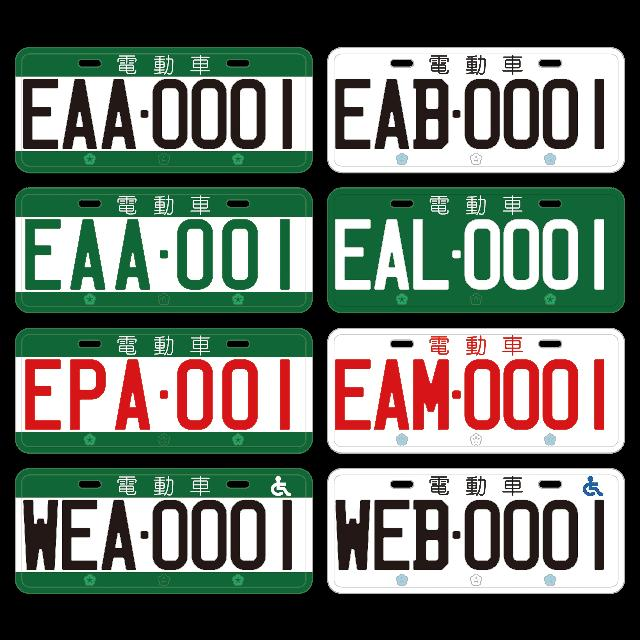plate: (14, 326, 314, 454), (326, 45, 624, 173), (16, 186, 314, 314), (325, 185, 625, 312), (14, 468, 314, 594), (16, 46, 314, 172), (327, 326, 625, 452), (326, 469, 624, 593)
